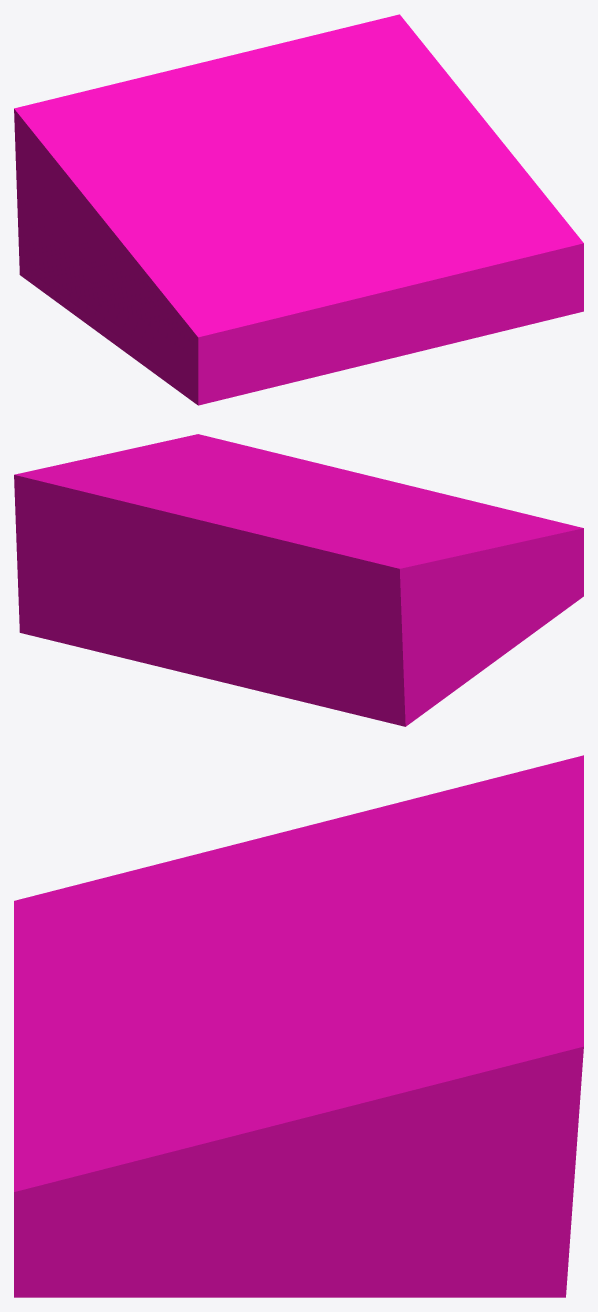
The model's file is study_pillow_1_meshCollider.fbx.
The picture shows the model from 3 angles, top to bottom: view 1: azimuth 30°, elevation 25°; view 2: azimuth 150°, elevation 25°; view 3: azimuth 270°, elevation 25°; orthographic projection. The views are drawn at different scales.
Visible parts, largest first — view 1: study_pillow_1_meshCollider; view 2: study_pillow_1_meshCollider; view 3: study_pillow_1_meshCollider.
Boxes of the visible parts, x1,y1,x2,y2 form: study_pillow_1_meshCollider: (14, 14, 583, 405); study_pillow_1_meshCollider: (14, 434, 583, 726); study_pillow_1_meshCollider: (14, 755, 583, 1297).
Size of the model in its own units: 31.52 by 12.67 by 26.06.
